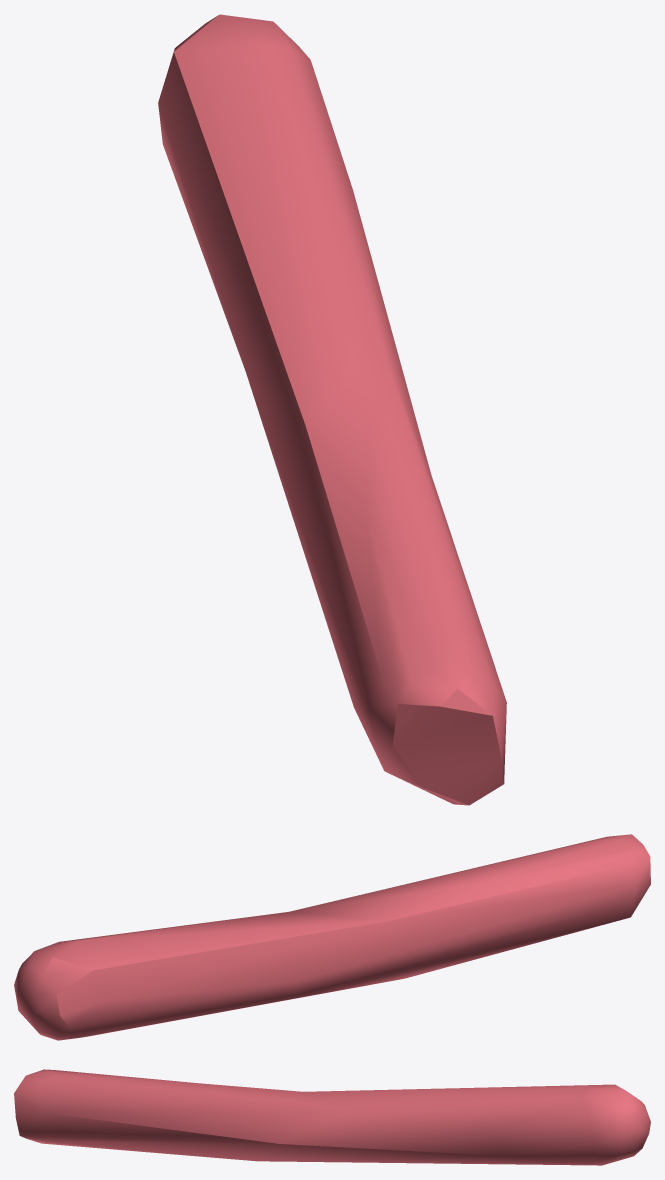
The model's file is fma8667_fj2932.glb.
3 renders of one model, top to bottom at view 1: azimuth 30°, elevation 25°; view 2: azimuth 150°, elevation 25°; view 3: azimuth 270°, elevation 25°, orthographic. The views are drawn at different scales.
Parts seen in each view (by area): view 1: FMA8667_FJ2932; view 2: FMA8667_FJ2932; view 3: FMA8667_FJ2932.
Boxes of the visible parts, left/top/right/bottom form: FMA8667_FJ2932: left=158, top=14, right=506, bottom=805; FMA8667_FJ2932: left=14, top=834, right=650, bottom=1040; FMA8667_FJ2932: left=14, top=1069, right=650, bottom=1165.
Bounding box in the file's own units: 0.00761 × 0.00423 × 0.0176.
